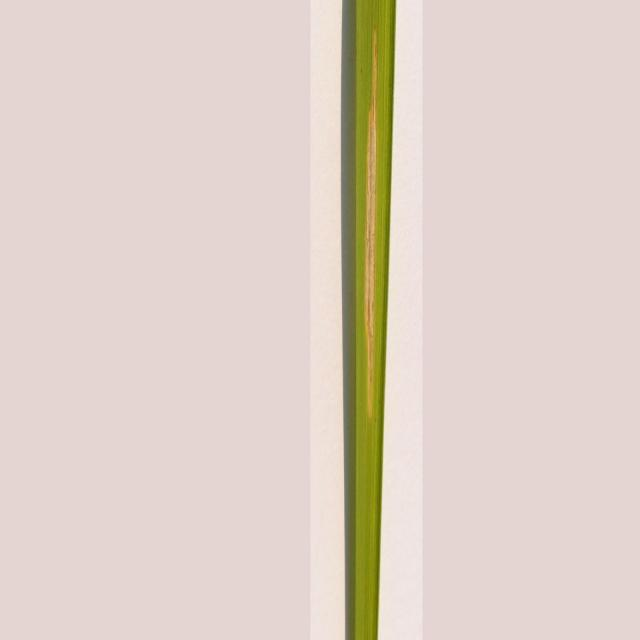leaf blight: (340, 27, 390, 418)
